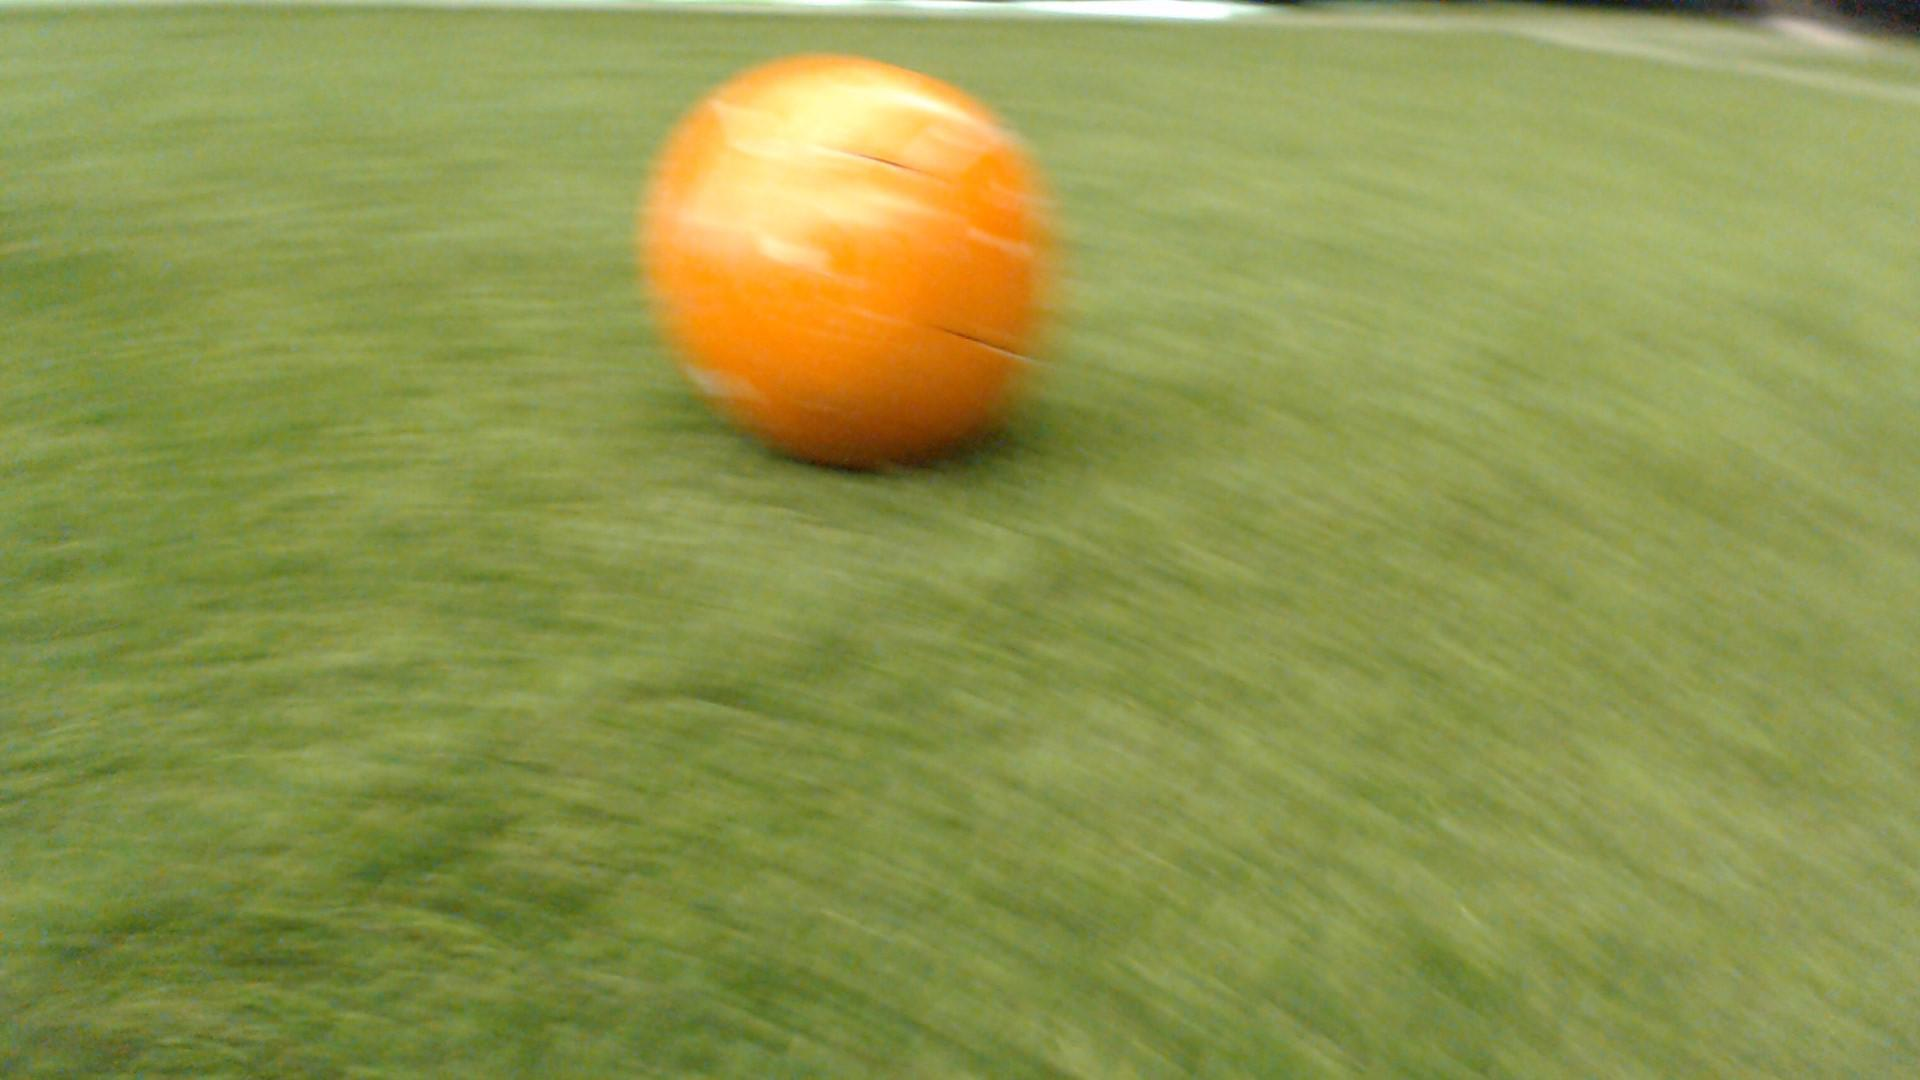bola: (615, 53, 1092, 481)
